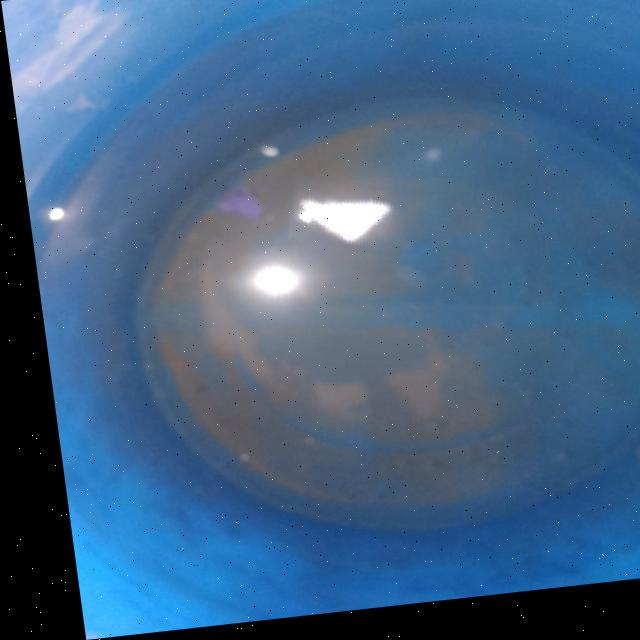thermocoal: (277, 177, 404, 267)
